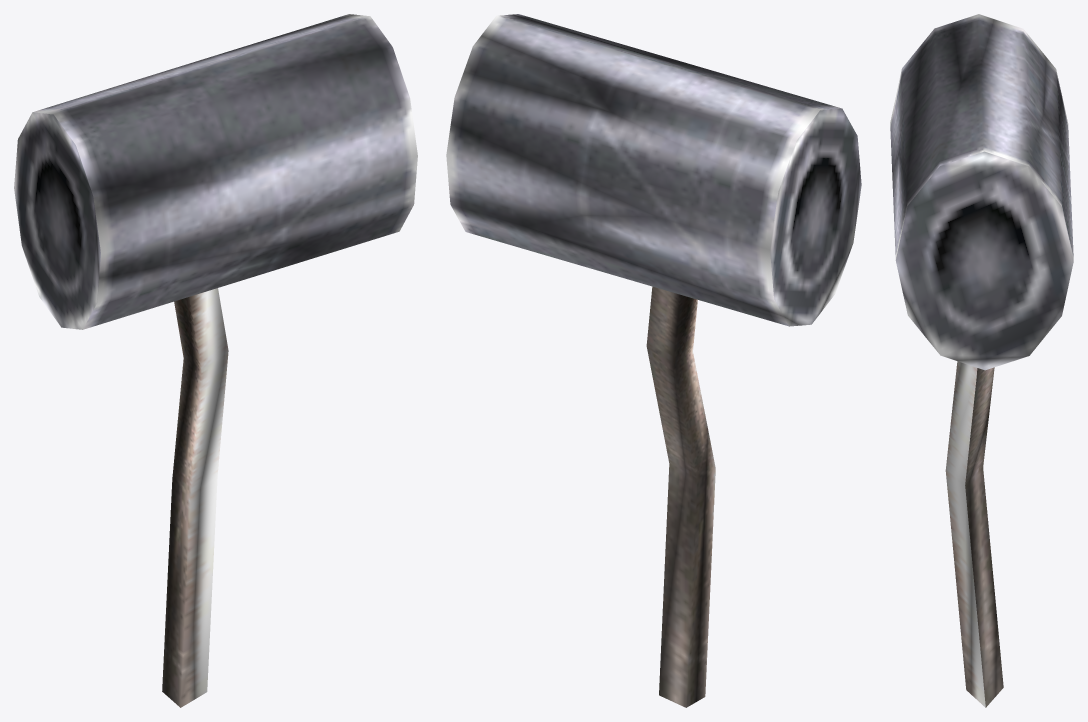
Rendered from Robot01.LeftHip2.fbx.
3 renders of one model, left to right at view 1: azimuth 30°, elevation 25°; view 2: azimuth 150°, elevation 25°; view 3: azimuth 270°, elevation 25°, orthographic.
Parts seen in each view (by area): view 1: Robot01.LeftHip2; view 2: Robot01.LeftHip2; view 3: Robot01.LeftHip2.
Part boxes in pixels (x1,y1,x2,y2): Robot01.LeftHip2: (14, 14, 417, 707); Robot01.LeftHip2: (446, 14, 861, 707); Robot01.LeftHip2: (890, 14, 1073, 707).
Bounding box in the file's own units: 23.98 × 44.51 × 11.65.
